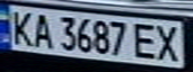3: (54, 14, 78, 52)
6: (72, 16, 93, 53)
7: (109, 19, 130, 56)
8: (90, 17, 112, 55)
A: (30, 10, 57, 49)
E: (130, 20, 163, 61)
K: (3, 8, 36, 47)
X: (151, 21, 184, 63)
